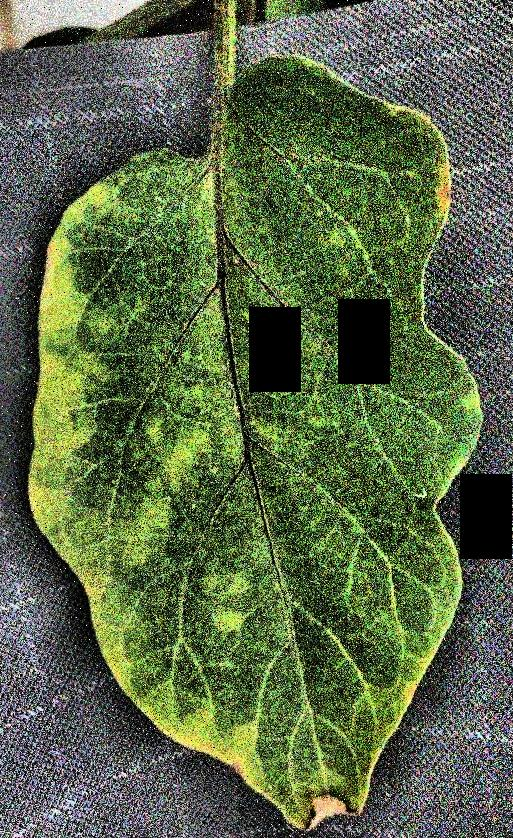Non-critical Stress: (1, 0, 513, 838)
